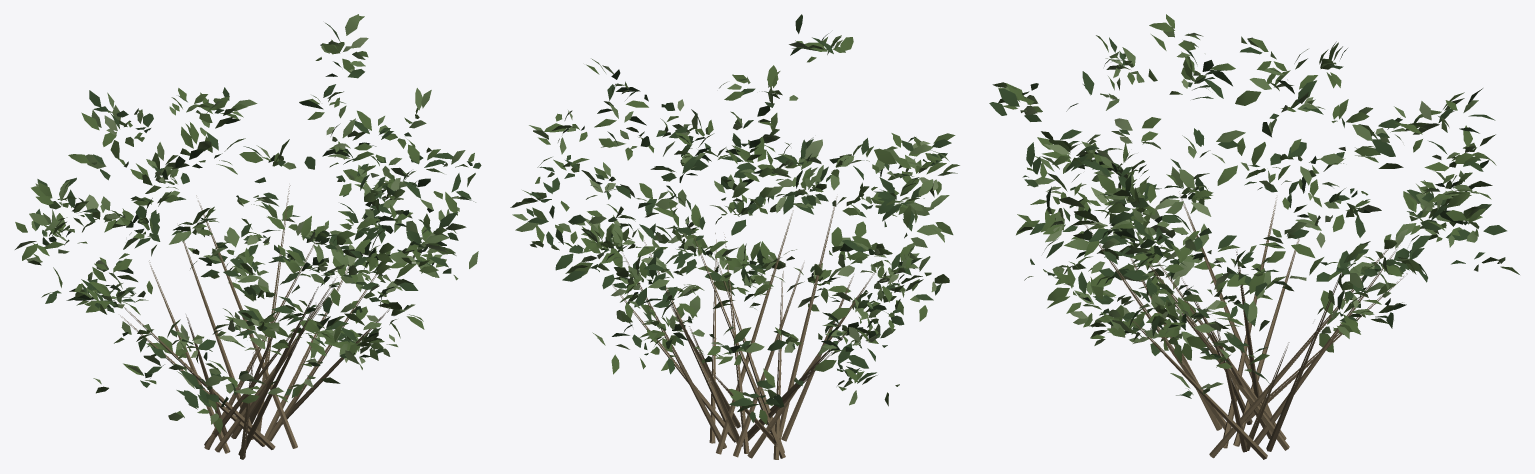
The model's file is verge_fine_shrub_mobile.glb.
3 renders of one model, left to right at view 1: azimuth 30°, elevation 25°; view 2: azimuth 150°, elevation 25°; view 3: azimuth 270°, elevation 25°, orthographic. The views are drawn at different scales.
Parts seen in each view (by area): view 1: VergeShrub; view 2: VergeShrub; view 3: VergeShrub.
Boxes of the visible parts, x1=… form: VergeShrub: x1=15, y1=14, x2=481, y2=459; VergeShrub: x1=510, y1=14, x2=959, y2=459; VergeShrub: x1=989, y1=14, x2=1519, y2=459.
Bounding box in the file's own units: 1.45 × 1.25 × 1.42.
